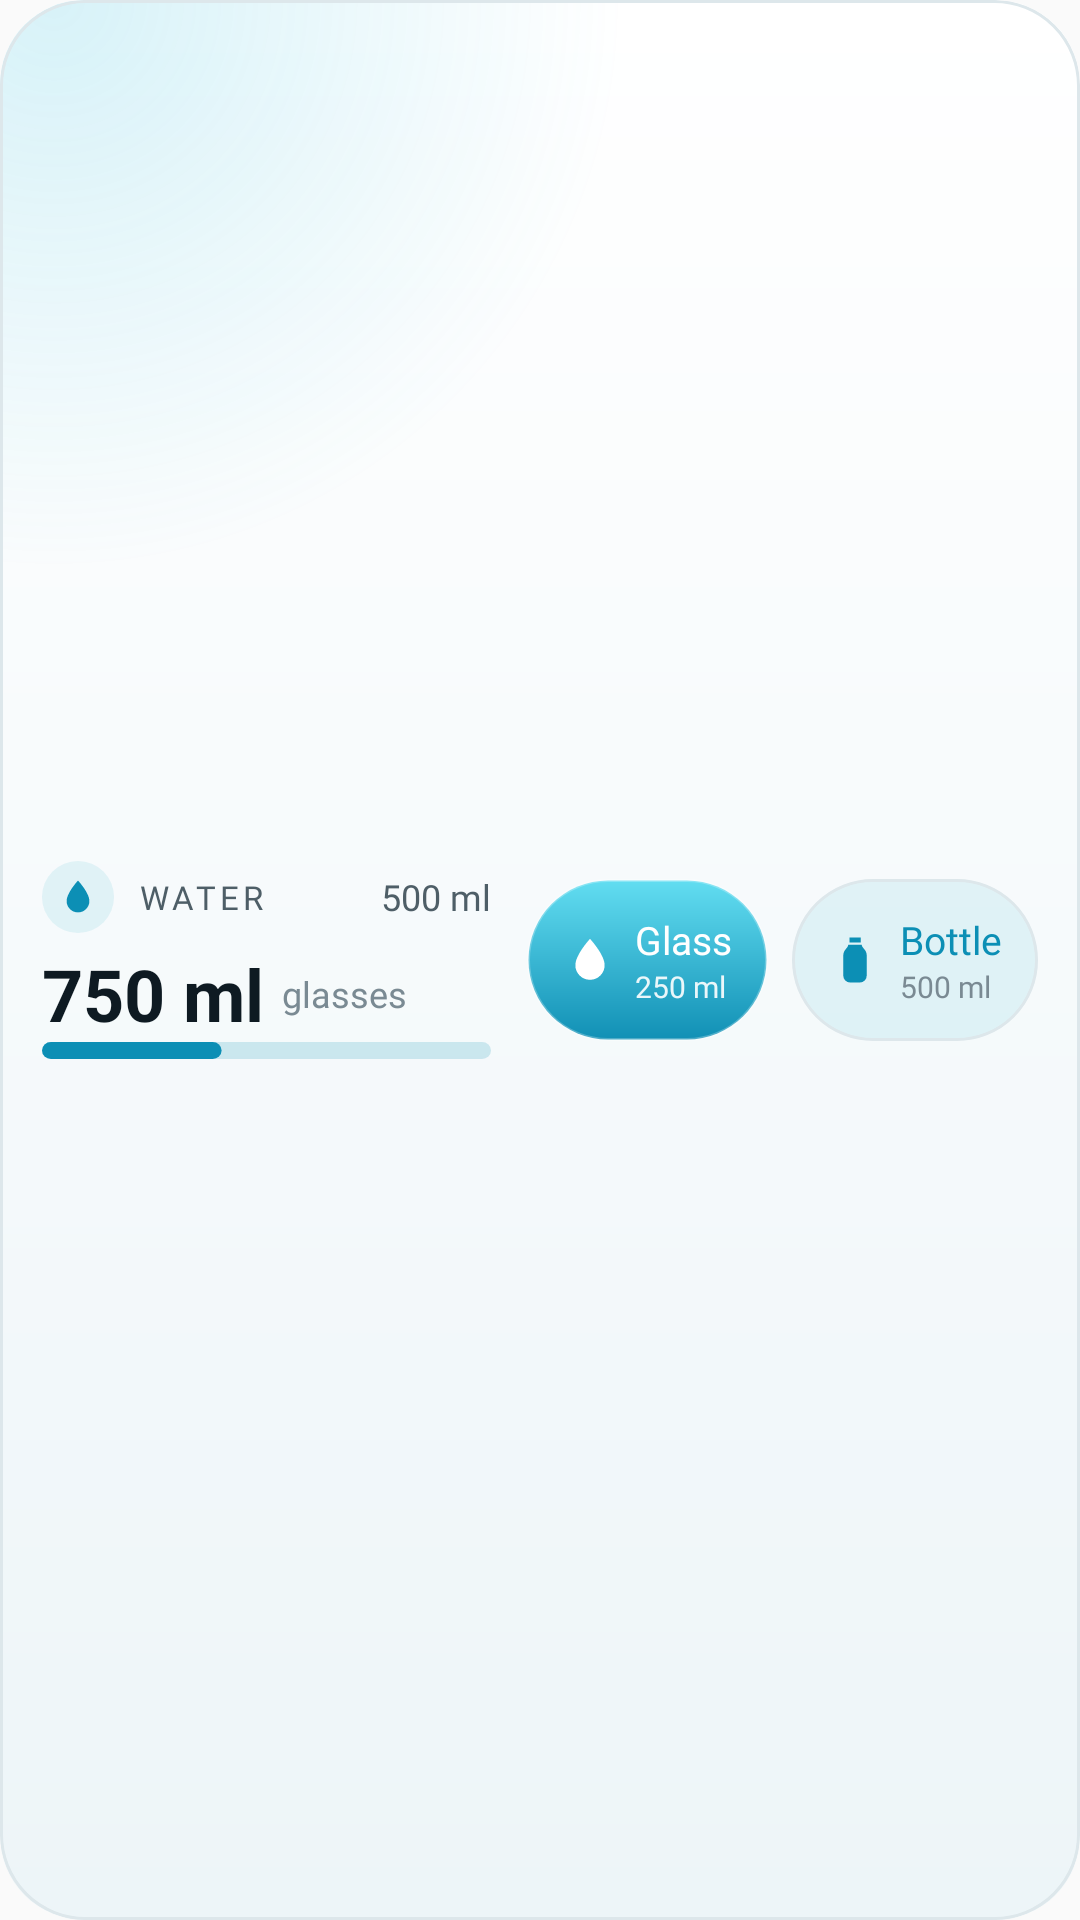

Locate icon controls on the screen. Image size 1080w x 1920h, boxes as (x1, y1, x2, y2).
widget drop: (66, 880, 90, 913), (563, 939, 617, 987)
